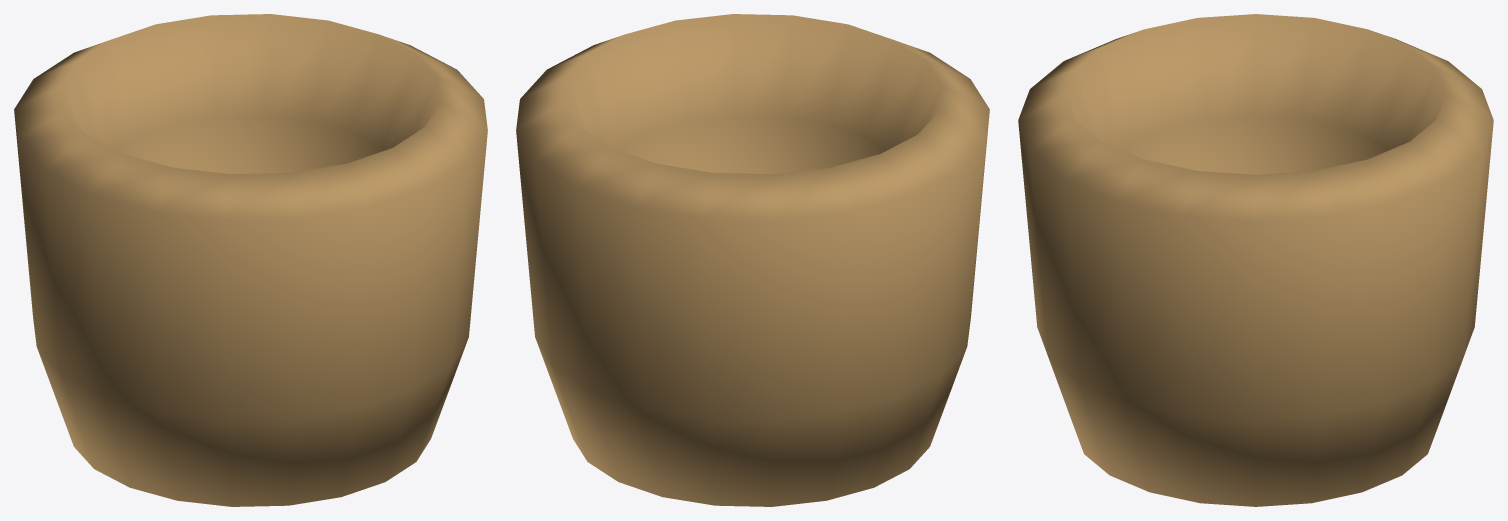
File: mortar-study-normal.glb
3 renders of one model, left to right at view 1: azimuth 30°, elevation 25°; view 2: azimuth 150°, elevation 25°; view 3: azimuth 270°, elevation 25°, orthographic.
Visible parts, largest first — view 1: mortar-study; view 2: mortar-study; view 3: mortar-study.
Boxes of the visible parts, <box> form: mortar-study: <box>14,14,487,506</box>; mortar-study: <box>516,14,989,506</box>; mortar-study: <box>1018,14,1493,506</box>.
Bounding box in the file's own units: 0.5 × 0.39 × 0.5.
